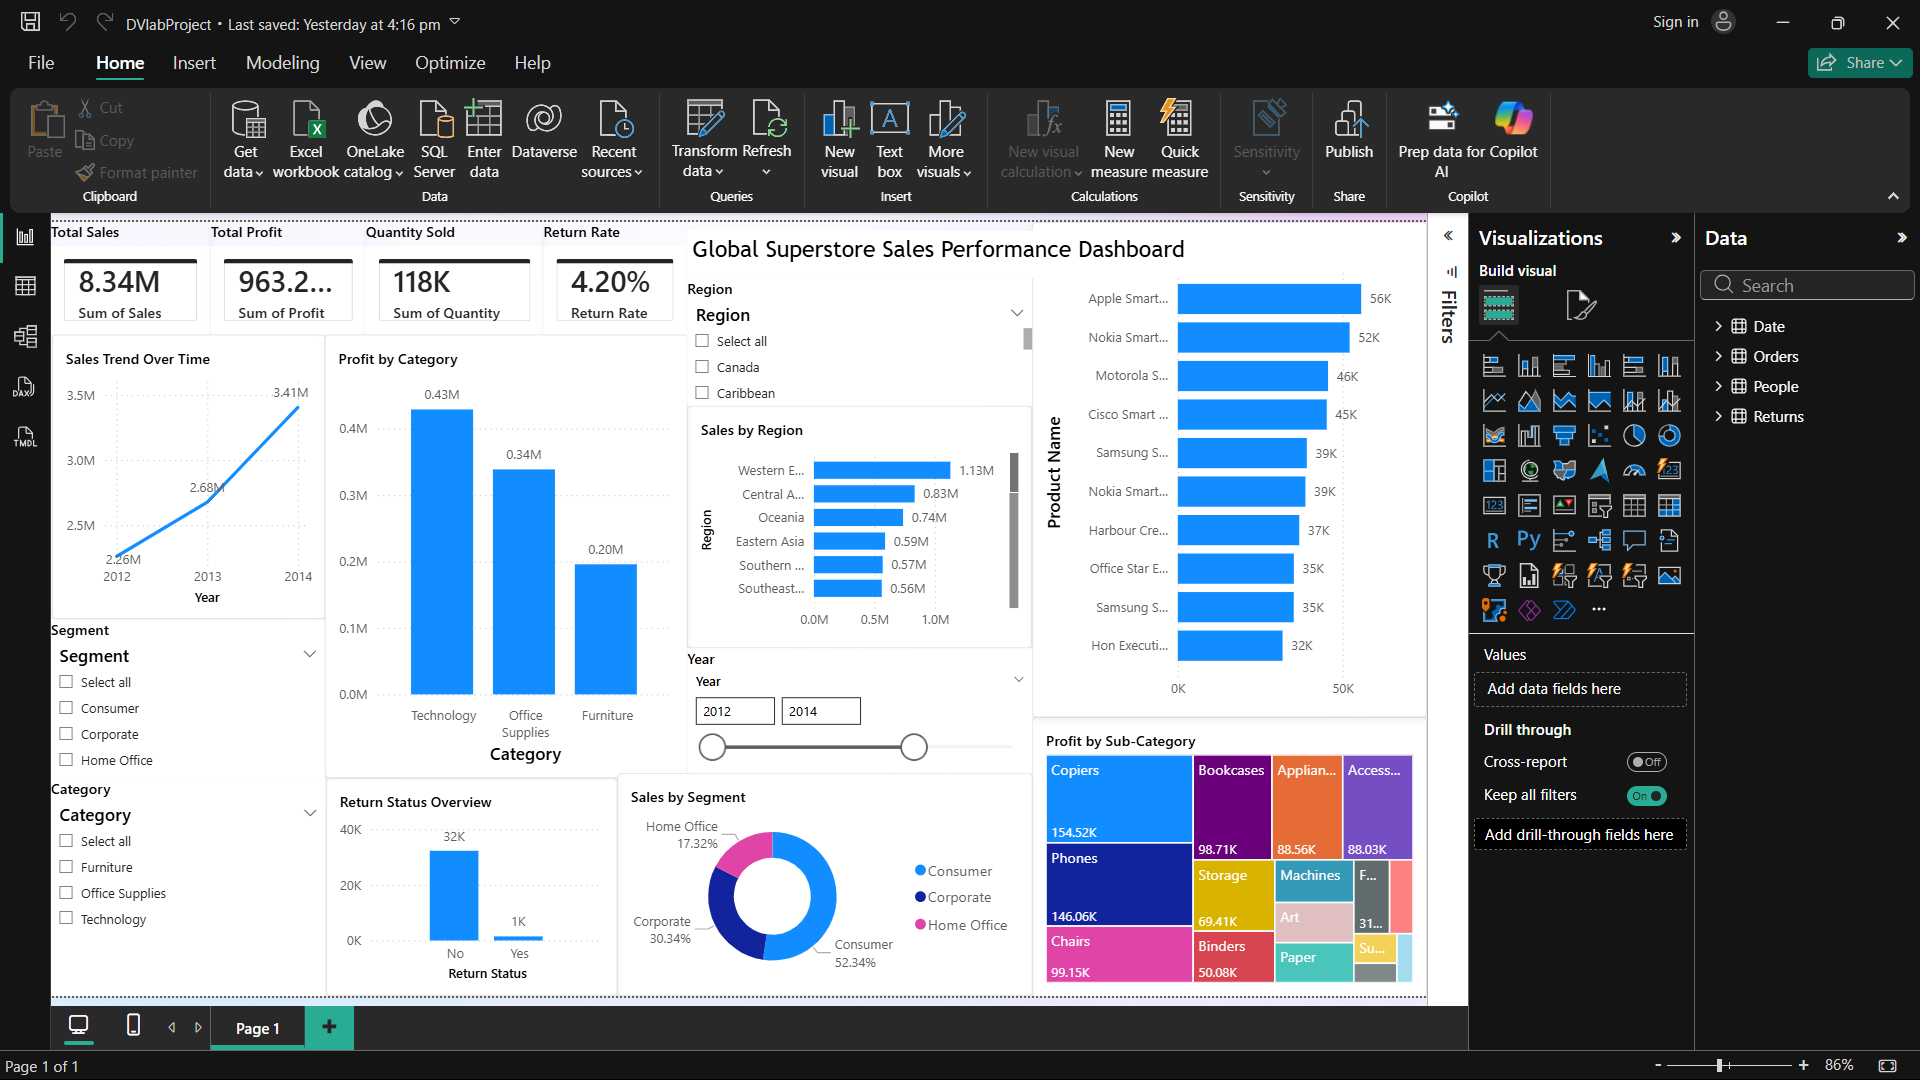

What the dashboard file says about the page in this screenshot:
{"tool":"powerbi","page":{"name":"Page 1","canvas":[1280,720],"ordinal":0},"visuals":[{"type":"cardVisual","title":"Total Sales","fields":{"Data":["Sum(Orders.Sales)"]},"box":[0,0,148.8,104.7],"z":0},{"type":"cardVisual","title":"Total Profit","fields":{"Data":["Sum(Orders.Profit)"]},"box":[148.8,0,144.2,104.7],"z":1000},{"type":"cardVisual","title":"Quantity Sold","fields":{"Data":["Sum(Orders.Quantity)"]},"box":[293,0,165.1,104.7],"z":2000},{"type":"cardVisual","title":"Return Rate","fields":{"Data":["Orders.Return Rate"]},"box":[458.1,0,133.7,104.7],"z":3000},{"type":"lineChart","title":"Sales Trend Over Time","fields":{"Category":["Date.Date.Variation.Date Hierarchy.Year","Date.Date.Variation.Date Hierarchy.Month"],"Y":["Sum(Orders.Sales)"]},"box":[1.2,104.7,254.7,265.1],"z":4000},{"type":"clusteredBarChart","title":"Sales by Region","fields":{"Category":["Orders.Region"],"Y":["Sum(Orders.Sales)"]},"box":[591.9,170.9,320.9,225.6],"z":5000},{"type":"clusteredColumnChart","title":"Profit by Category","fields":{"Category":["Orders.Category"],"Y":["Sum(Orders.Profit)"]},"box":[254.7,104.7,337.2,412.8],"z":6000},{"type":"treemap","title":"Profit by Sub-Category","fields":{"Group":["Orders.Sub-Category"],"Values":["Sum(Orders.Profit)"]},"box":[912.8,460.5,367.4,260.5],"z":7000},{"type":"donutChart","title":"Sales by Segment","fields":{"Category":["Orders.Segment"],"Y":["Sum(Orders.Sales)"]},"box":[526.7,512.8,386,207],"z":8000},{"type":"clusteredBarChart","title":"Top 10 Products by Sales","fields":{"Category":["Orders.Product Name"],"Y":["Sum(Orders.Sales)"]},"box":[912.8,0,367.4,460.5],"z":9000},{"type":"clusteredColumnChart","title":"Return Status Overview","fields":{"Category":["Orders.Return Status"],"Y":["CountNonNull(Orders.Order ID)"]},"box":[255.8,517.4,270.9,202.3],"z":10000},{"type":"slicer","title":"Year","fields":{"Values":["Date.Year"]},"box":[591.9,396.5,320.9,116.3],"z":11000},{"type":"slicer","title":"Region","fields":{"Values":["Orders.Region"]},"box":[591.9,52.3,320.9,118.6],"z":12000},{"type":"slicer","title":"Segment","fields":{"Values":["Orders.Segment"]},"box":[0,369.8,254.7,147.7],"z":13000},{"type":"slicer","title":"Category","fields":{"Values":["Orders.Category"]},"box":[0,517.3,255.2,203.1],"z":14000},{"type":"textbox","box":[591.9,8.1,519.8,44.2],"z":15000}]}

Visuals, with their boxes on the page's 1280x720 design canvas (x1, y1, x2, y2). These are canvas units, not pixel positions in the 1920x1080 screenshot, which may show the page scaled, cropped or inside an application window:
"Total Sales" cardVisual: crop(0, 0, 149, 105)
"Total Profit" cardVisual: crop(149, 0, 293, 105)
"Quantity Sold" cardVisual: crop(293, 0, 458, 105)
"Return Rate" cardVisual: crop(458, 0, 592, 105)
"Sales Trend Over Time" lineChart: crop(1, 105, 256, 370)
"Sales by Region" clusteredBarChart: crop(592, 171, 913, 396)
"Profit by Category" clusteredColumnChart: crop(255, 105, 592, 518)
"Profit by Sub-Category" treemap: crop(913, 460, 1280, 721)
"Sales by Segment" donutChart: crop(527, 513, 913, 720)
"Top 10 Products by Sales" clusteredBarChart: crop(913, 0, 1280, 460)
"Return Status Overview" clusteredColumnChart: crop(256, 517, 527, 720)
"Year" slicer: crop(592, 396, 913, 513)
"Region" slicer: crop(592, 52, 913, 171)
"Segment" slicer: crop(0, 370, 255, 518)
"Category" slicer: crop(0, 517, 255, 720)
textbox: crop(592, 8, 1112, 52)
